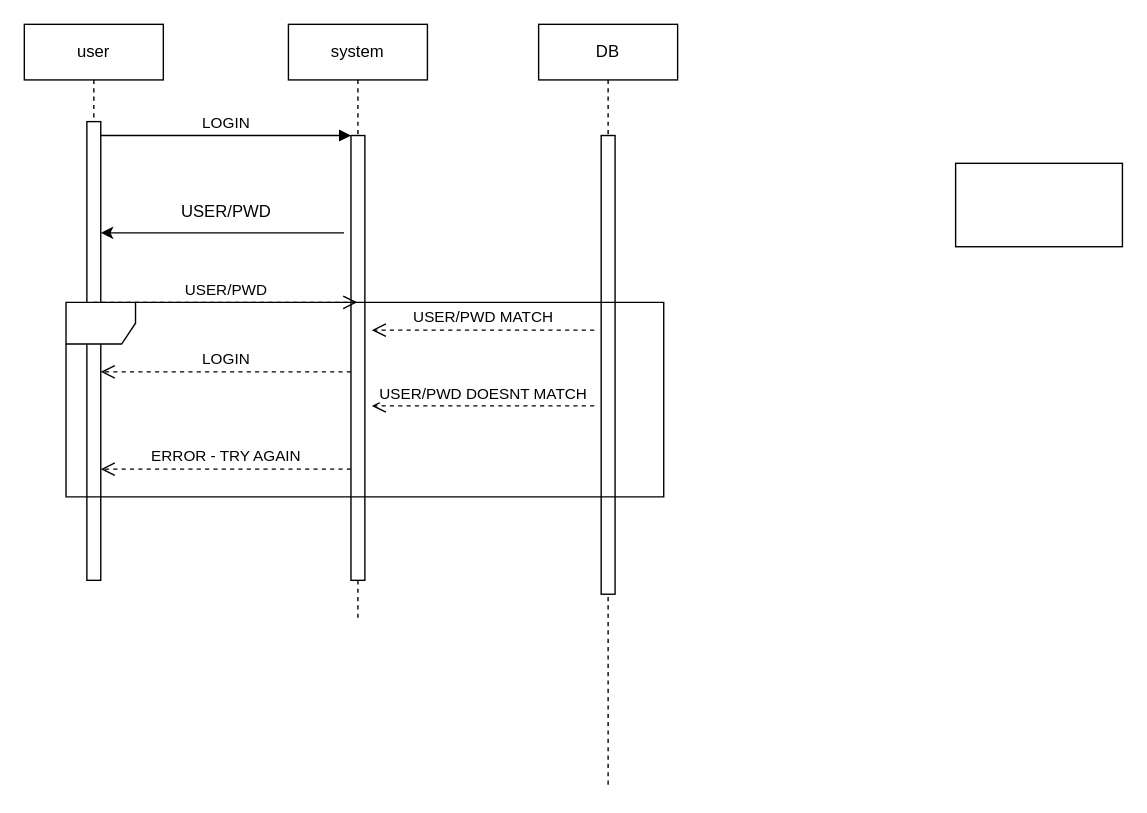
Some shapes in this 1147 by 813 pixel diagram are drawn without their labels. The box of each missing label's shape, as (x1, y1, x2, y2) in pixels:
Organization: (954, 162, 1122, 247)
Ref: (65, 301, 664, 497)
